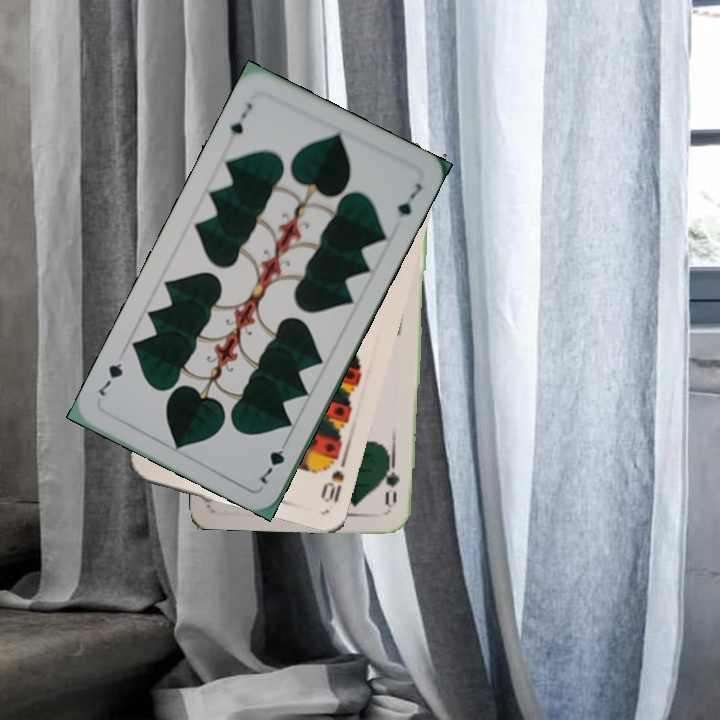G7: (256, 434, 292, 487), (225, 98, 255, 139)
GO: (382, 451, 402, 510)
S10: (317, 449, 350, 506)
